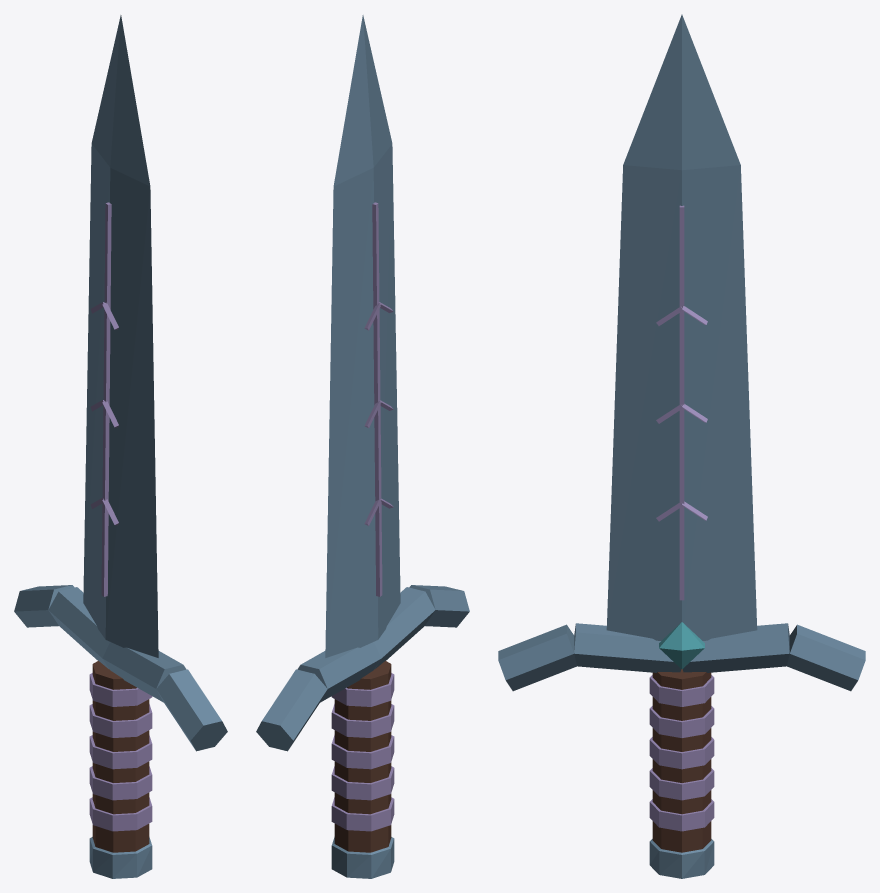
The model's file is sword_alloy.glb.
The picture shows the model from 3 angles, left to right: view 1: azimuth 30°, elevation 25°; view 2: azimuth 150°, elevation 25°; view 3: azimuth 270°, elevation 25°; orthographic projection.
Parts seen in each view (by area): view 1: geometry; view 2: geometry; view 3: geometry.
Part boxes in pixels (x1,y1,x2,y2): geometry: (14,15,227,878); geometry: (256,15,469,878); geometry: (498,14,865,878).
Size of the model in its own units: 0.069 by 0.972 by 0.375.
